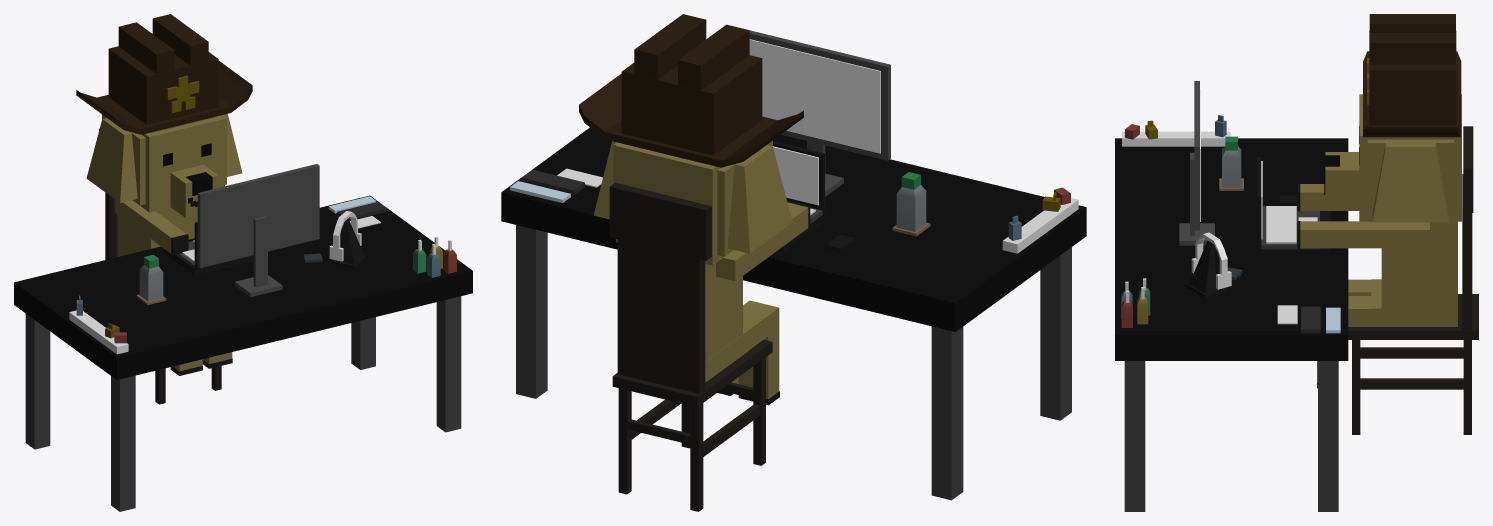
Rendered from serifdog.fbx.
3 renders of one model, left to right at view 1: azimuth 30°, elevation 25°; view 2: azimuth 150°, elevation 25°; view 3: azimuth 270°, elevation 25°, orthographic. The views are drawn at different scales.
Parts seen in each view (by area): view 1: pCube1, polySurface2, pCube9, pCube61, pCube42, polySurface16, pCube62, pCube60, polySurface19, pCube41, pCube51, pCube10 (+8 smaller); view 2: pCube1, polySurface2, pCube49, pCube12, pCube61, pCube50, pCube62, polySurface16, pCube60, pCube42, pCube41, pCube9 (+17 smaller); view 3: pCube1, polySurface2, pCube61, pCube41, polySurface16, pCube62, polySurface19, polySurface14, pCube40, pCube60, pCube43, pCube42 (+21 smaller).
Part boxes in pixels (x1,y1,x2,y2): pCube1: (14,195,472,379); polySurface2: (25,296,461,511); pCube9: (197,164,319,267); pCube61: (108,46,218,124); pCube42: (140,115,224,212); polySurface16: (86,114,242,202); pCube62: (118,14,208,73); pCube60: (76,61,252,134); polySurface19: (114,199,186,253); pCube41: (117,207,197,256); pCube51: (170,164,218,217); pCube10: (253,216,267,287); pCube1: (501,127,1086,331); polySurface2: (516,225,1071,500); pCube49: (617,239,705,393); pCube12: (749,39,880,153); pCube61: (621,55,762,155); pCube50: (609,182,711,260); pCube62: (634,14,749,90); polySurface16: (593,141,792,253); pCube60: (579,73,803,167); pCube42: (616,143,723,265); pCube41: (705,263,742,361); pCube9: (749,30,890,160); pCube1: (1115,138,1348,360); polySurface2: (1124,361,1338,511); pCube61: (1369,31,1456,125); pCube41: (1381,221,1457,308); polySurface16: (1372,143,1448,222); pCube62: (1369,14,1455,64); polySurface19: (1300,184,1429,248); polySurface14: (1367,139,1453,218); pCube40: (1348,294,1478,339); pCube60: (1363,51,1461,137); pCube43: (1371,279,1457,326); pCube42: (1359,94,1461,221).
Size of the model in its own units: 8.64 by 7.96 by 6.74.
